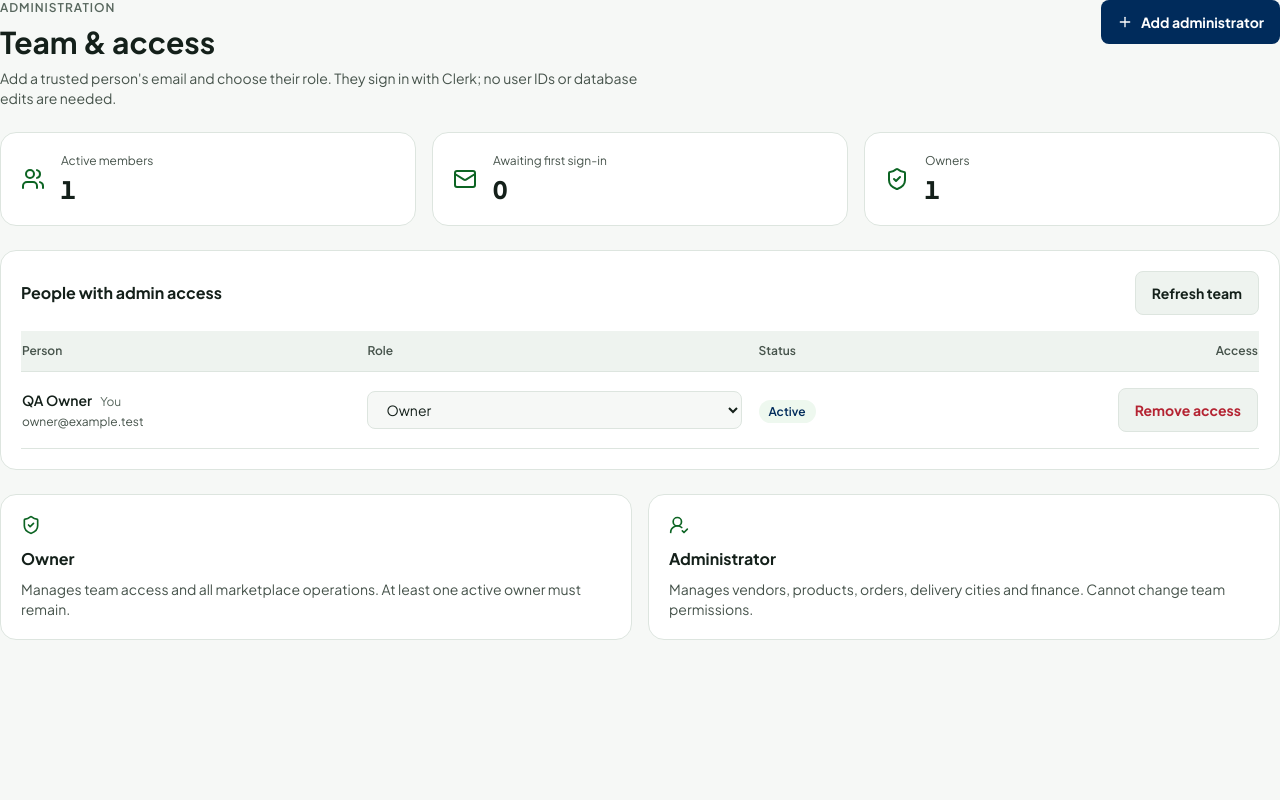
Test: owner grants email access with Administrator as default
expect the text "QA Owner" is shown: met, box [22,391,92,409]
Click the button "Add administrator" at {"x": 1190, "y": 22}, box [1101,0,1279,44]
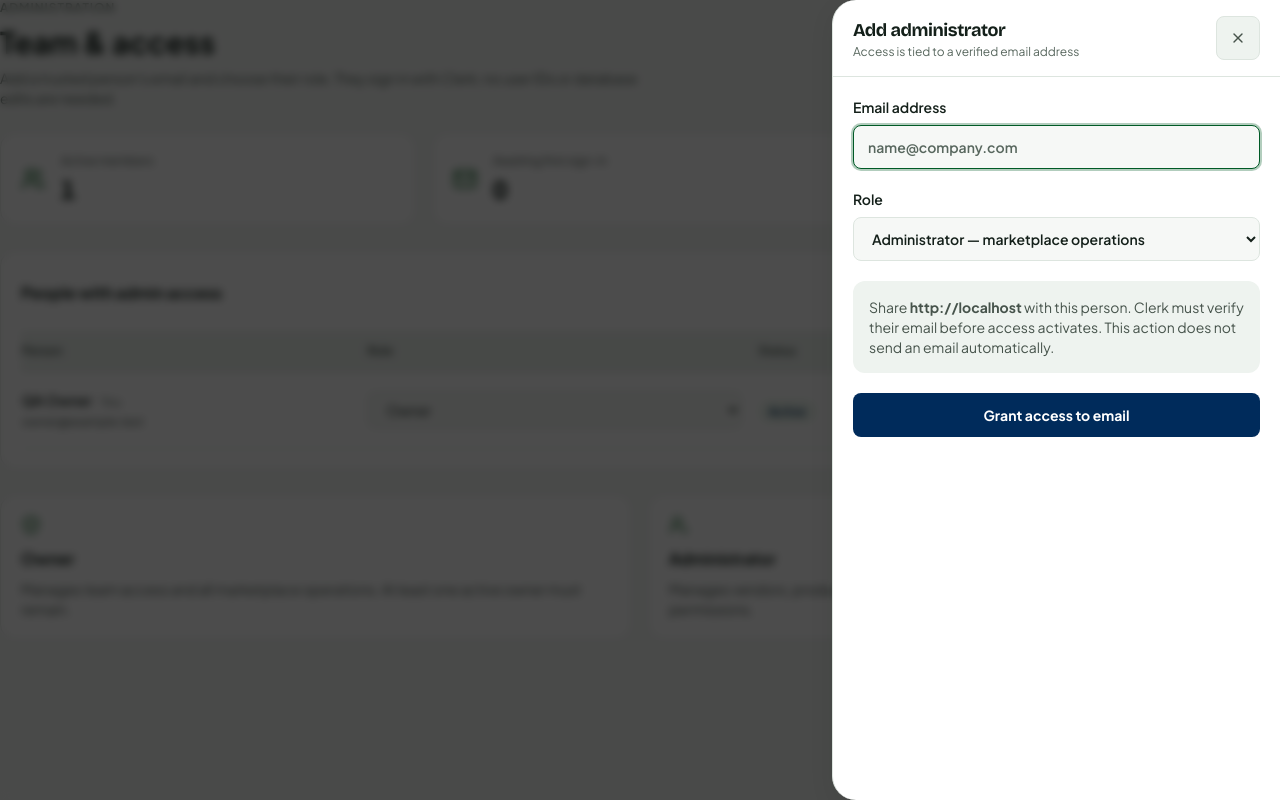
Type "new@example.test" into the field labelled "Email address" at {"x": 1056, "y": 147}, box [853,125,1260,169]
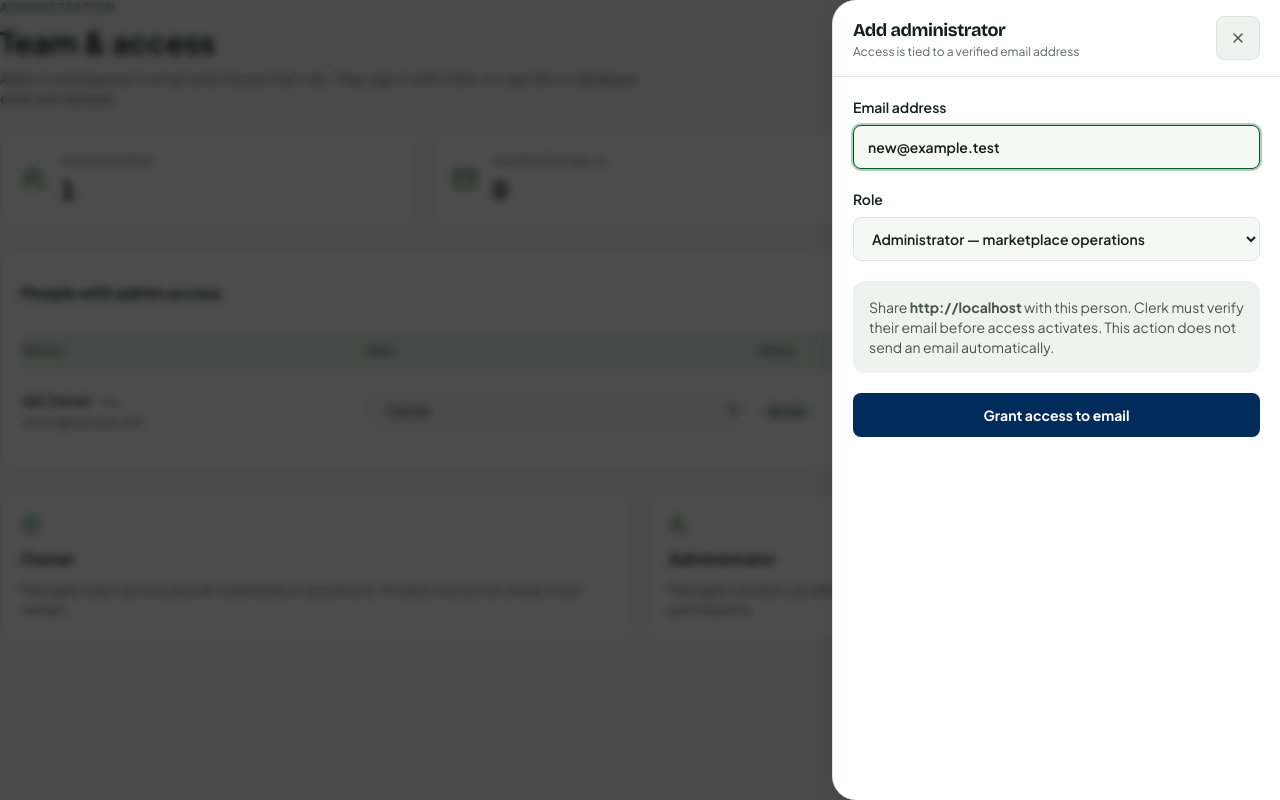
Click the button "Grant access to email" at {"x": 1056, "y": 415}, box [853,393,1260,437]
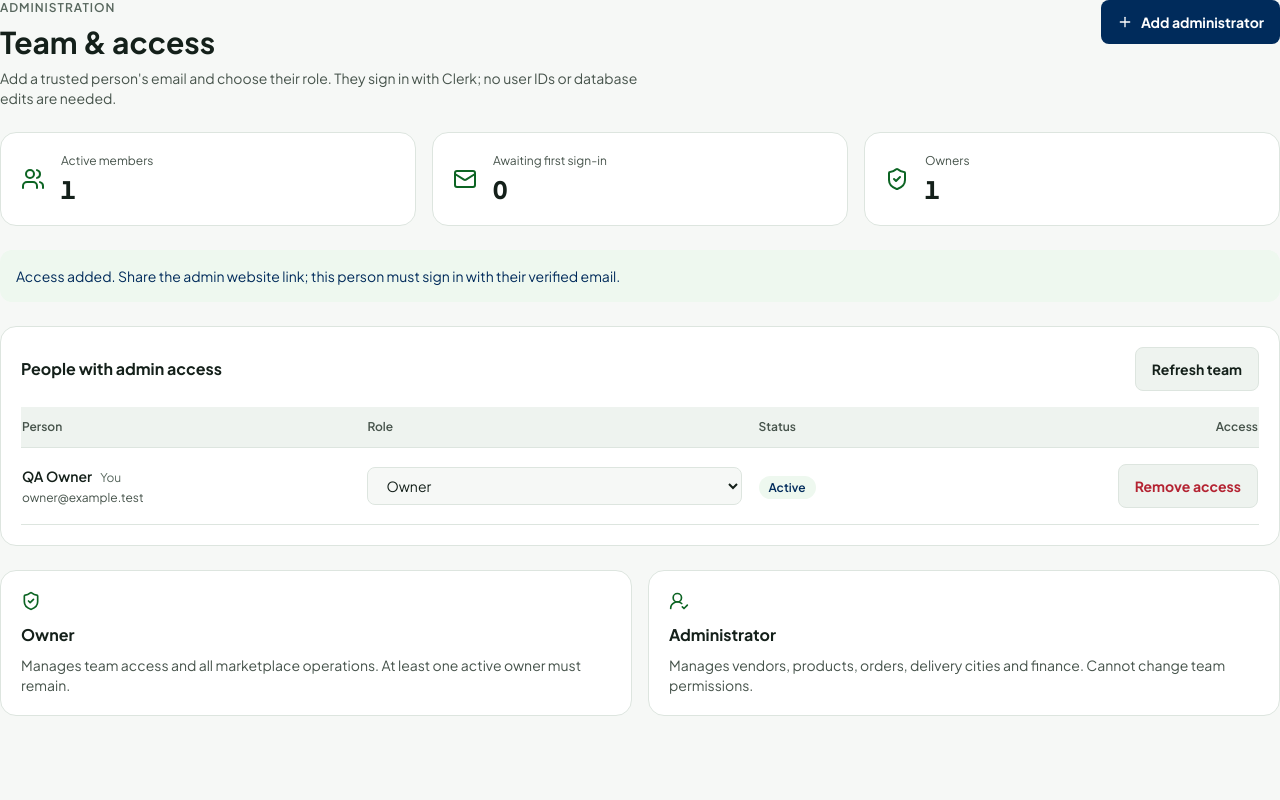
expect the text "Access added. Share the admin website link" is shown: met, box [16,267,620,285]
expect the dialog is gone: met
